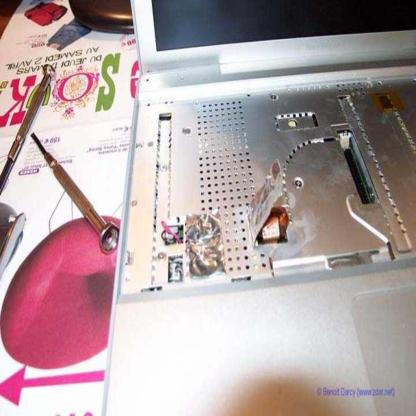board: (100, 0, 415, 415)
